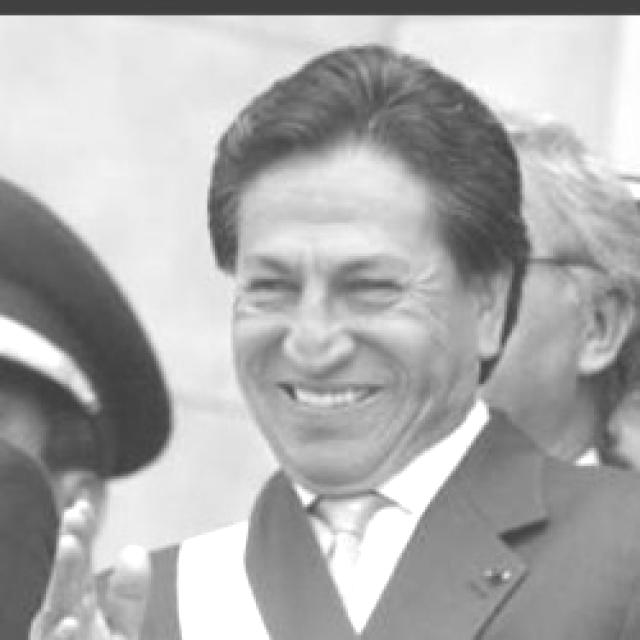real: (226, 90, 492, 476), (232, 270, 424, 308)
